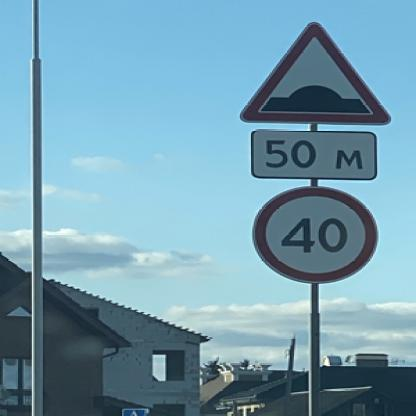crosswalk: (121, 408, 147, 415)
speedlimit: (247, 185, 377, 282)
